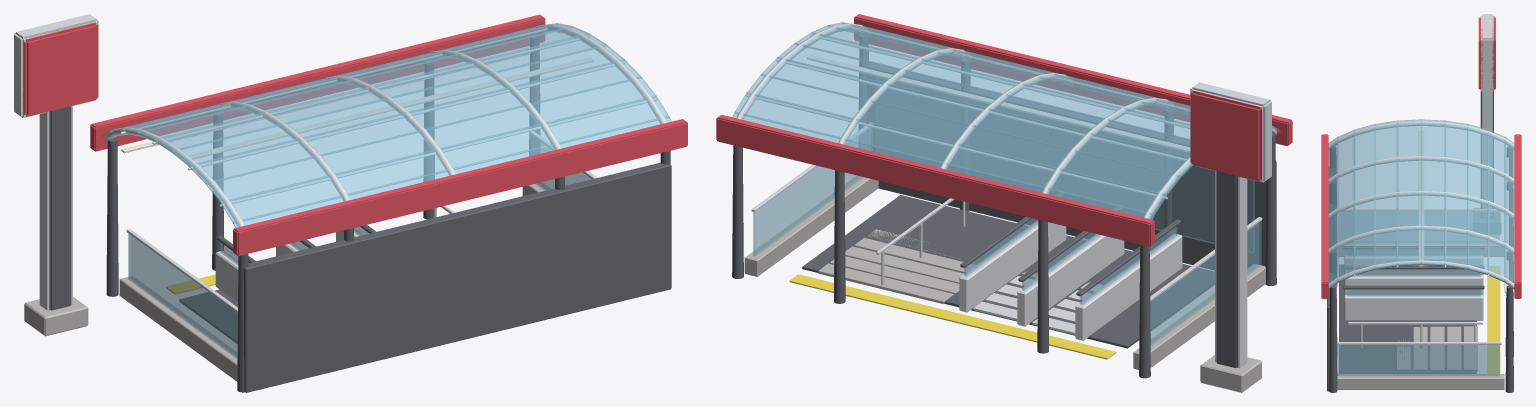
File: OW_M5MetroEntrance.fbx
3 renders of one model, left to right at view 1: azimuth 30°, elevation 25°; view 2: azimuth 150°, elevation 25°; view 3: azimuth 270°, elevation 25°, orthographic. The views are drawn at different scales.
Parts seen in each view (by area): view 1: OW_M5MetroEntrance; view 2: OW_M5MetroEntrance; view 3: OW_M5MetroEntrance.
Boxes of the visible parts, x1,y1,x2,y2 form: OW_M5MetroEntrance: (14,14,687,392); OW_M5MetroEntrance: (716,14,1292,392); OW_M5MetroEntrance: (1321,14,1521,392).
Size of the model in its own units: 14.28 by 7.46 by 6.68.
